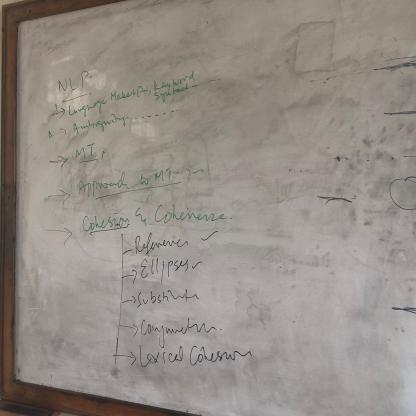Handwritten text: (61, 66, 211, 120), (64, 164, 214, 199), (131, 339, 259, 375), (72, 204, 226, 233), (138, 313, 227, 344), (132, 284, 205, 314), (66, 112, 133, 138), (136, 252, 193, 282), (130, 231, 193, 257), (55, 63, 93, 93), (67, 141, 104, 162)
